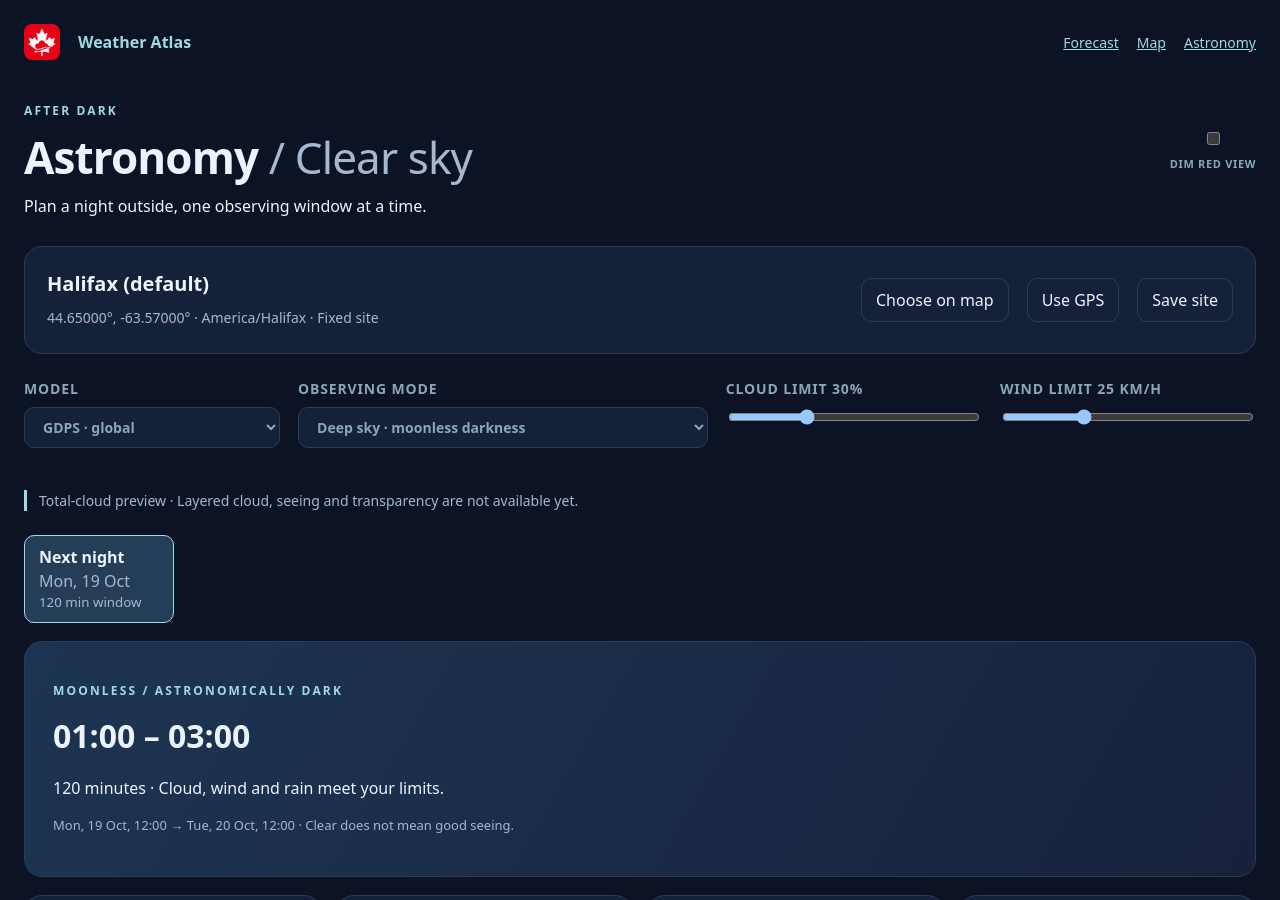
Test case: does not keep old observing windows under newly selected limits
Expected: the text "120 minutes · Cloud, wind and rain meet your limits." is shown, [53,777,444,799]
Set the slider labelled "Cloud limit 30%" to "10" at (759, 417), box [728,409,980,425]
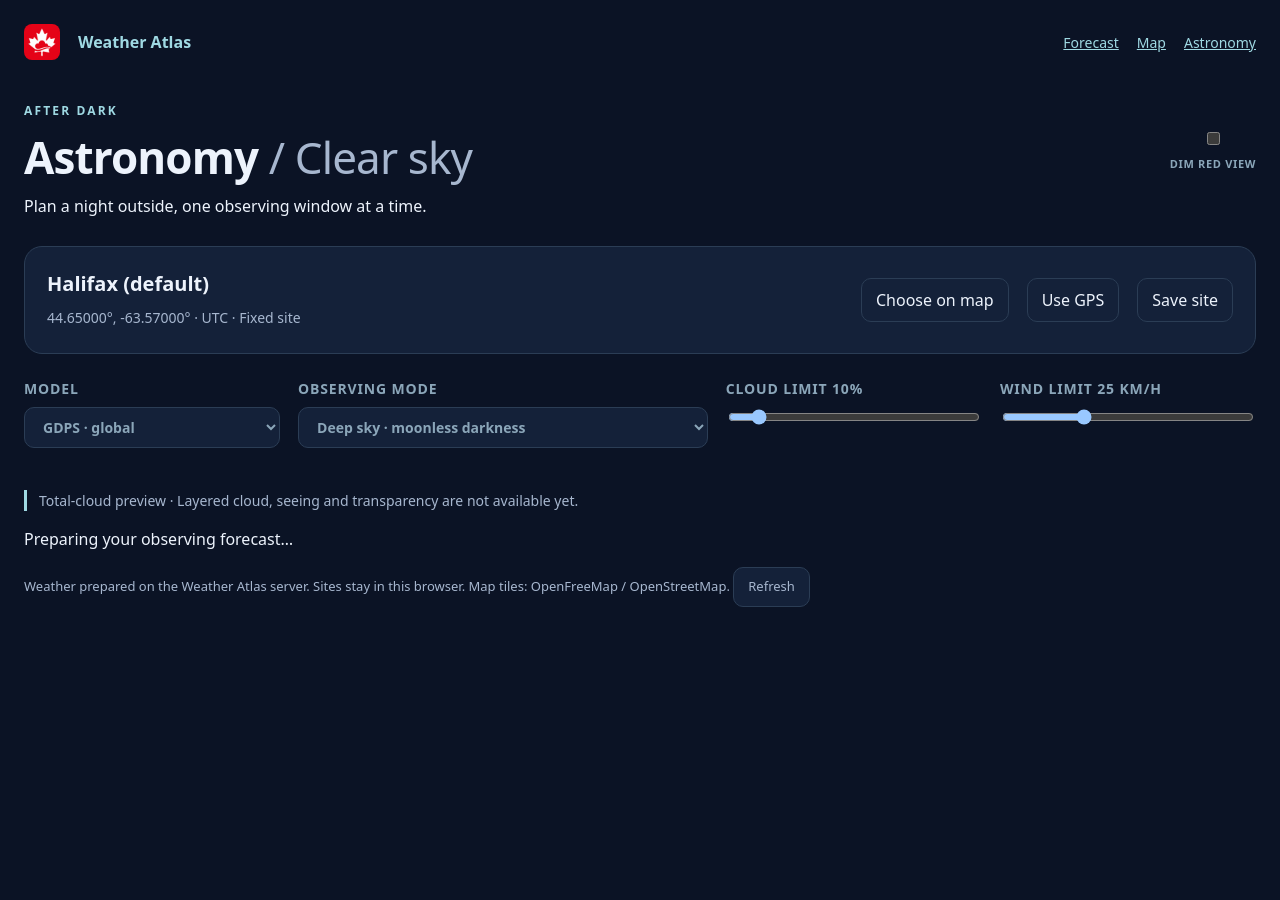
Now the text "120 minutes" is gone
Now the text "Preparing your observing forecast…" is shown, box [24,528,293,550]
